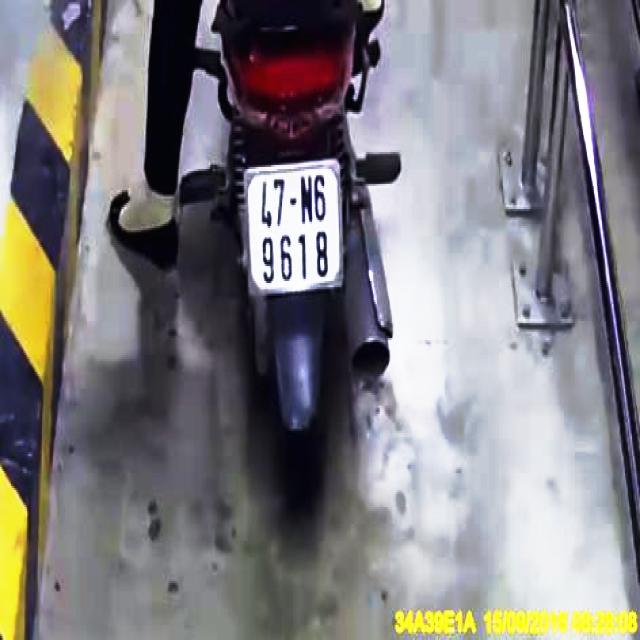license_plate: (249, 166, 344, 293)
